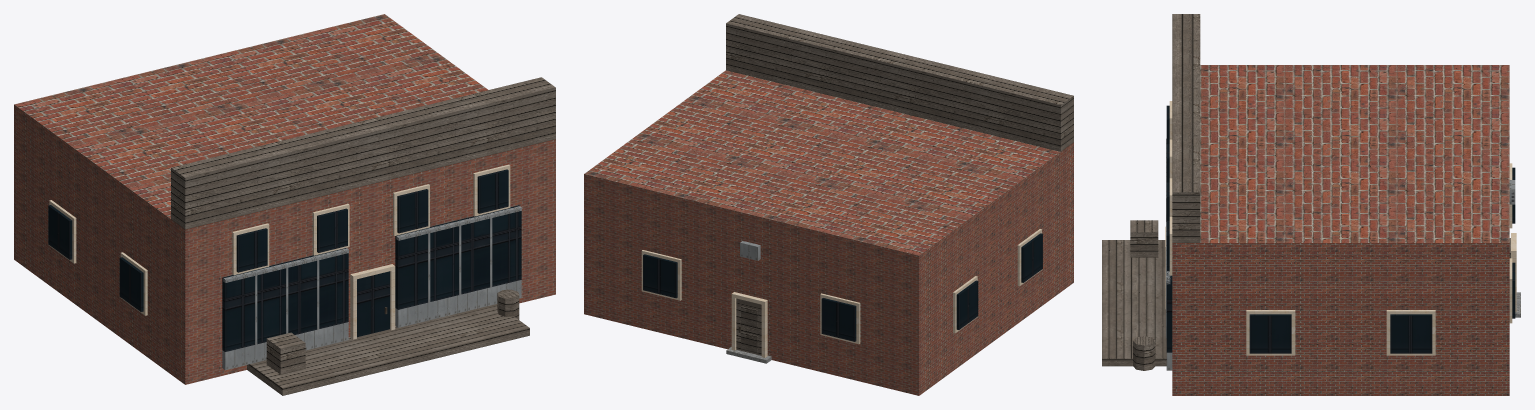
File: rural-general-store_lod0.gltf
3 views of the same model, side by side, from view 1: azimuth 30°, elevation 25°; view 2: azimuth 150°, elevation 25°; view 3: azimuth 270°, elevation 25° (orthographic). The views are drawn at different scales.
Parts seen in each view (by area): view 1: rural-general-store_tier0, rural-general-store_fen_07-glass-curtain-blue_1_t, rural-general-store_tier1, rural-general-store__porch, rural-general-store_fen_14-steel-panel_0, rural-general-store_fen_04-limestone_2, rural-general-store__rocking_chair, rural-general-store__barrels; view 2: rural-general-store_tier0, rural-general-store_tier1, rural-general-store_fen_07-glass-curtain-blue_1_t, rural-general-store_fen_04-limestone_2, rural-general-store_fen_18-timber-siding_4, rural-general-store_fen_18-timber-siding_5_t; view 3: rural-general-store_tier0, rural-general-store__porch, rural-general-store_tier1, rural-general-store_fen_07-glass-curtain-blue_1_t, rural-general-store_fen_04-limestone_2, rural-general-store__rocking_chair, rural-general-store__barrels, rural-general-store_fen_14-steel-panel_0.
Boxes of the visible parts, x1,y1,x2,y2 form: rural-general-store_tier0: [14, 14, 555, 384]; rural-general-store_fen_07-glass-curtain-blue_1_t: [48, 169, 521, 351]; rural-general-store_tier1: [171, 77, 555, 229]; rural-general-store__porch: [247, 304, 529, 395]; rural-general-store_fen_14-steel-panel_0: [222, 206, 521, 370]; rural-general-store_fen_04-limestone_2: [49, 164, 510, 339]; rural-general-store__rocking_chair: [266, 332, 305, 374]; rural-general-store__barrels: [497, 289, 519, 319]; rural-general-store_tier0: [584, 70, 1073, 395]; rural-general-store_tier1: [726, 14, 1073, 151]; rural-general-store_fen_07-glass-curtain-blue_1_t: [643, 233, 1042, 341]; rural-general-store_fen_04-limestone_2: [641, 229, 1041, 357]; rural-general-store_fen_18-timber-siding_4: [736, 298, 761, 355]; rural-general-store_fen_18-timber-siding_5_t: [741, 306, 757, 352]; rural-general-store_tier0: [1172, 65, 1509, 395]; rural-general-store__porch: [1102, 240, 1166, 366]; rural-general-store_tier1: [1172, 14, 1200, 242]; rural-general-store_fen_07-glass-curtain-blue_1_t: [1166, 105, 1515, 353]; rural-general-store_fen_04-limestone_2: [1165, 101, 1516, 355]; rural-general-store__rocking_chair: [1130, 220, 1158, 257]; rural-general-store__barrels: [1133, 336, 1155, 370]; rural-general-store_fen_14-steel-panel_0: [1166, 138, 1515, 370].
Size of the model in its own units: 15.4 by 8.02 by 14.9.
